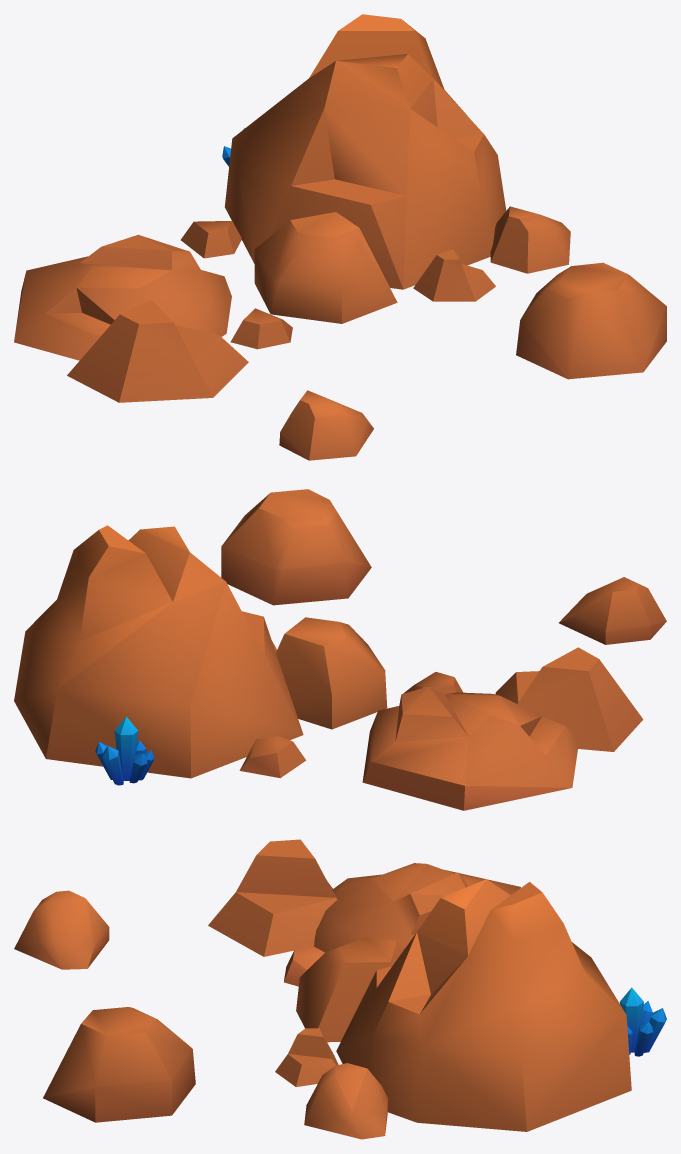
The model's file is canyon.glb.
3 views of the same model, one above another, from view 1: azimuth 30°, elevation 25°; view 2: azimuth 150°, elevation 25°; view 3: azimuth 270°, elevation 25° (orthographic).
Visible parts, largest first — view 1: rocks; view 2: rocks, crystal; view 3: rocks, crystal.
Part boxes in pixels (x1=…): rocks: x1=14, y1=14, x2=666, y2=460; rocks: x1=14, y1=489, x2=666, y2=810; crystal: x1=95, y1=717, x2=154, y2=785; rocks: x1=14, y1=839, x2=631, y2=1139; crystal: x1=619, y1=987, x2=666, y2=1056.
Size of the model in its own units: 3.15 by 1.07 by 3.35.
2 materials, 2 textured.
